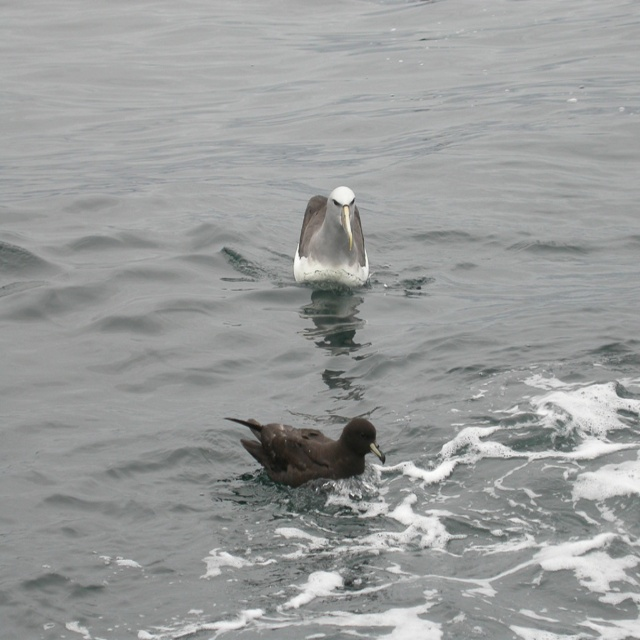Duck: (227, 404, 383, 497), (293, 184, 373, 297)
